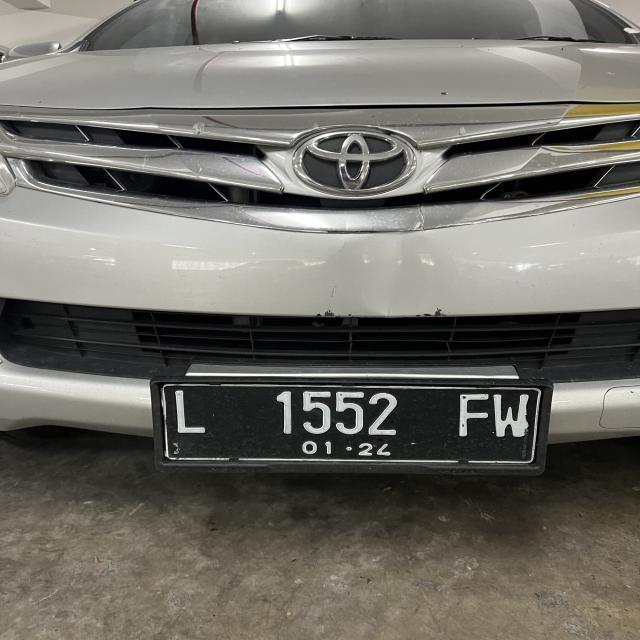1: (275, 388, 299, 438)
2: (368, 392, 402, 435)
5: (301, 386, 333, 434), (336, 389, 366, 433)
F: (454, 392, 488, 438)
L: (172, 386, 210, 439)
W: (492, 392, 530, 439)
